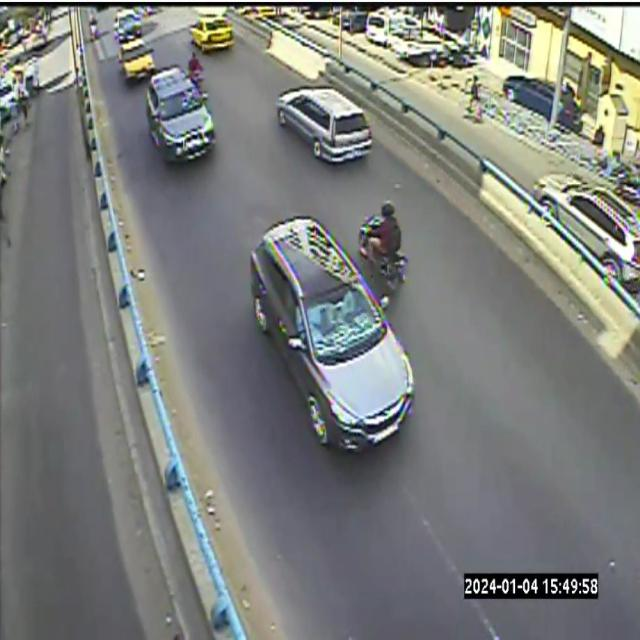car: (250, 217, 414, 451), (276, 87, 371, 163), (145, 66, 216, 161), (191, 12, 233, 52), (118, 39, 154, 79)
